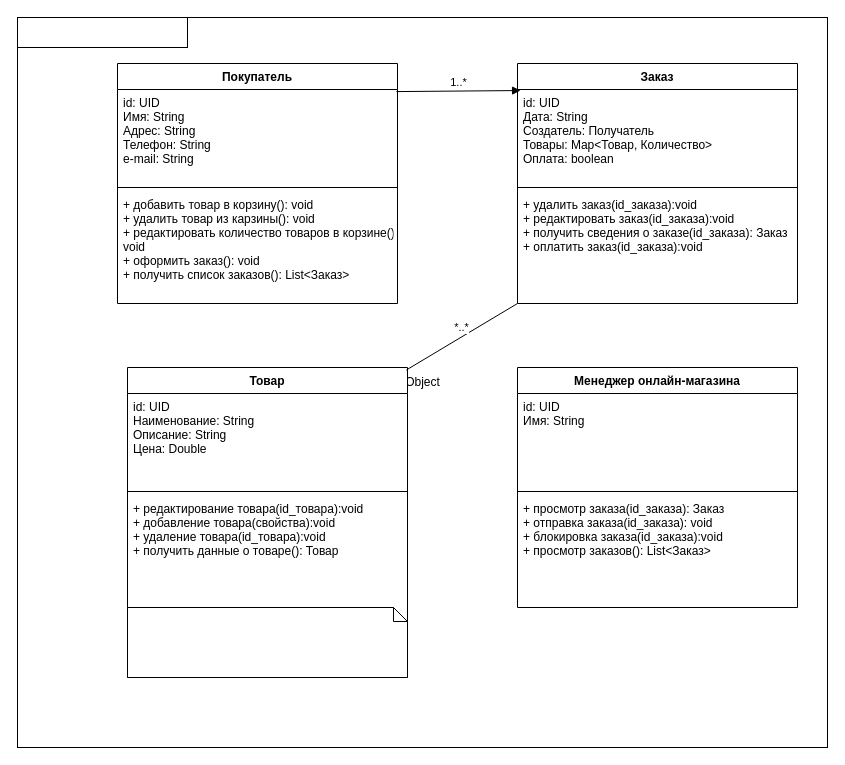
This 845x765 diagram has some shape labels left out. Each missing label, with the centre of its shape:
"1-3 Метода доступны только менеджеру онлайн-магазина" belongs at (267,642).
"диаграмма классов" belongs at (102,32).
